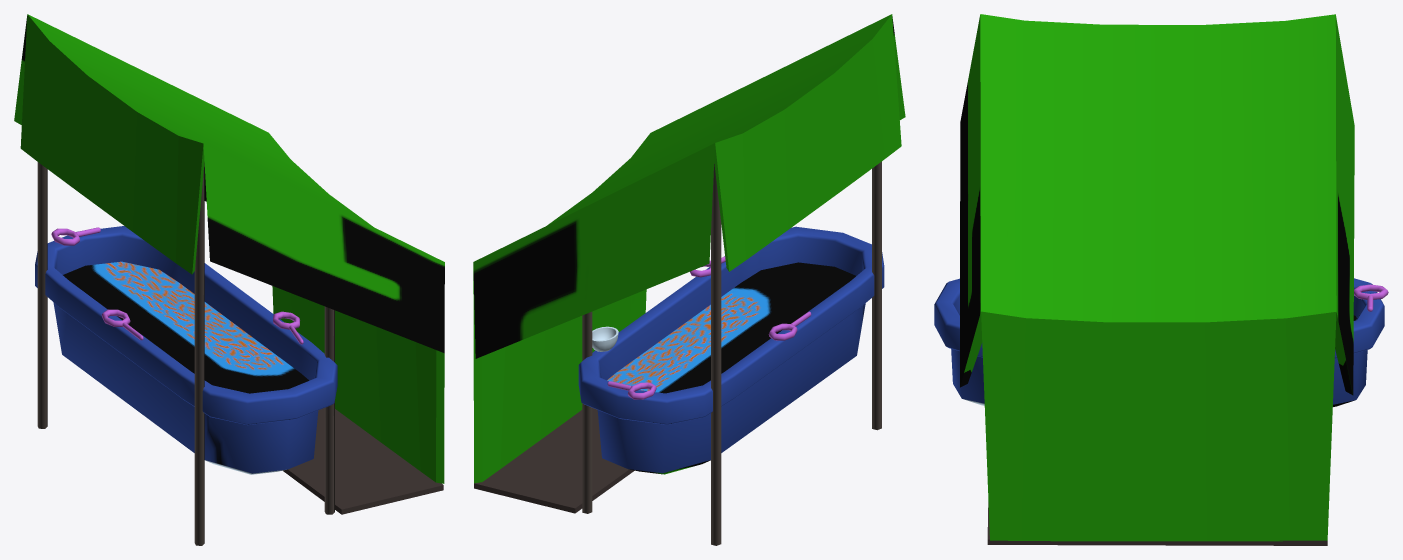
The model's file is GS_Kingyo.fbx.
The picture shows the model from 3 angles, left to right: view 1: azimuth 30°, elevation 25°; view 2: azimuth 150°, elevation 25°; view 3: azimuth 270°, elevation 25°; orthographic projection.
Parts seen in each view (by area): view 1: GS_Kingyo; view 2: GS_Kingyo; view 3: GS_Kingyo.
Part boxes in pixels (box(x1,y1,x2,y2)): GS_Kingyo: box(14, 14, 444, 545); GS_Kingyo: box(473, 14, 905, 545); GS_Kingyo: box(934, 14, 1388, 545).
Size of the model in its own units: 316 by 481 by 482.
